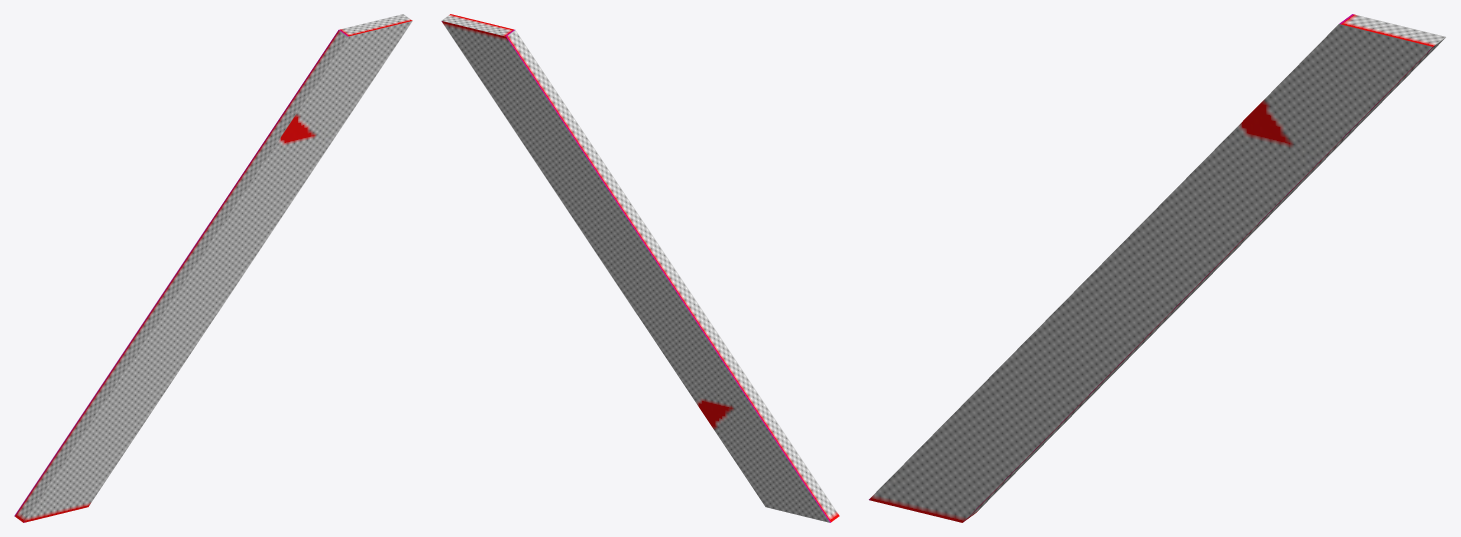
File: TableDiagonal_Half.fbx
3 renders of one model, left to right at view 1: azimuth 30°, elevation 25°; view 2: azimuth 150°, elevation 25°; view 3: azimuth 330°, elevation 25°, orthographic. The views are drawn at different scales.
Parts seen in each view (by area): view 1: TableDiagonal_Half; view 2: TableDiagonal_Half; view 3: TableDiagonal_Half.
Part boxes in pixels (x1=…): TableDiagonal_Half: x1=14, y1=14, x2=412, y2=522; TableDiagonal_Half: x1=441, y1=14, x2=839, y2=522; TableDiagonal_Half: x1=869, y1=14, x2=1445, y2=522.
Size of the model in its own units: 300 by 300 by 12.5.
